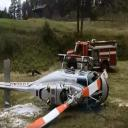helicopter: (1, 56, 111, 126)
